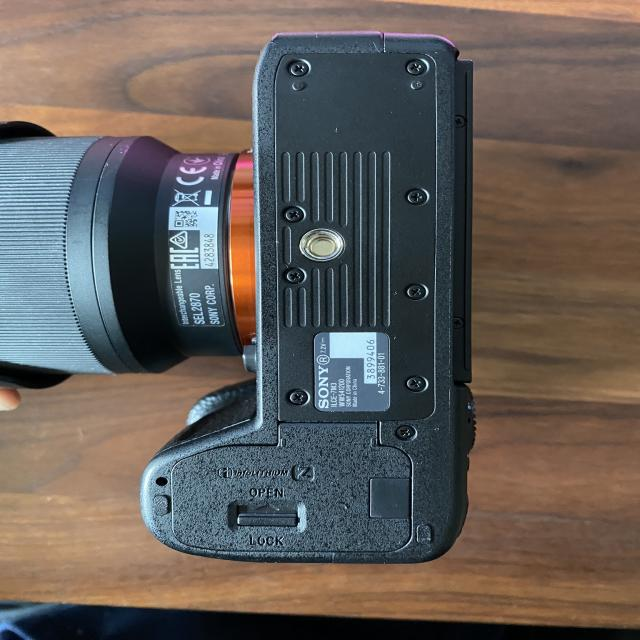PhillipsScrewHead: (289, 388, 309, 406), (405, 61, 427, 77), (284, 268, 306, 284), (285, 207, 304, 223), (406, 284, 425, 300), (406, 377, 426, 392), (408, 190, 428, 204), (396, 425, 416, 439), (290, 61, 308, 76), (454, 114, 466, 129), (453, 316, 464, 332)
